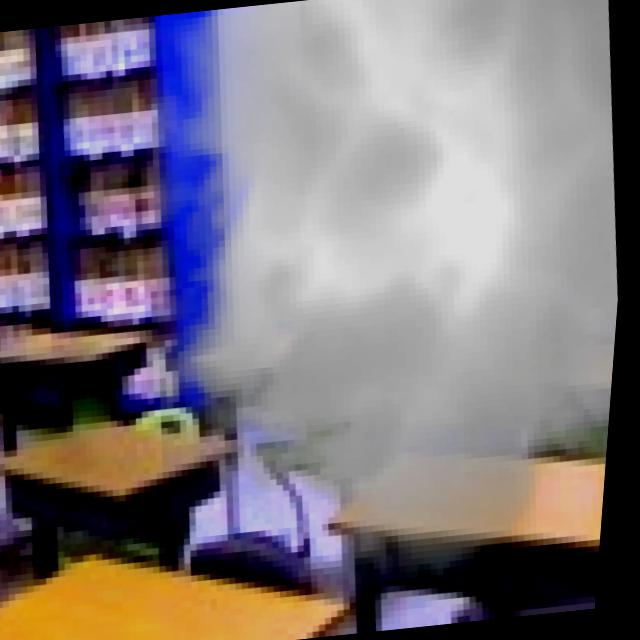smoke: (74, 0, 640, 637)
